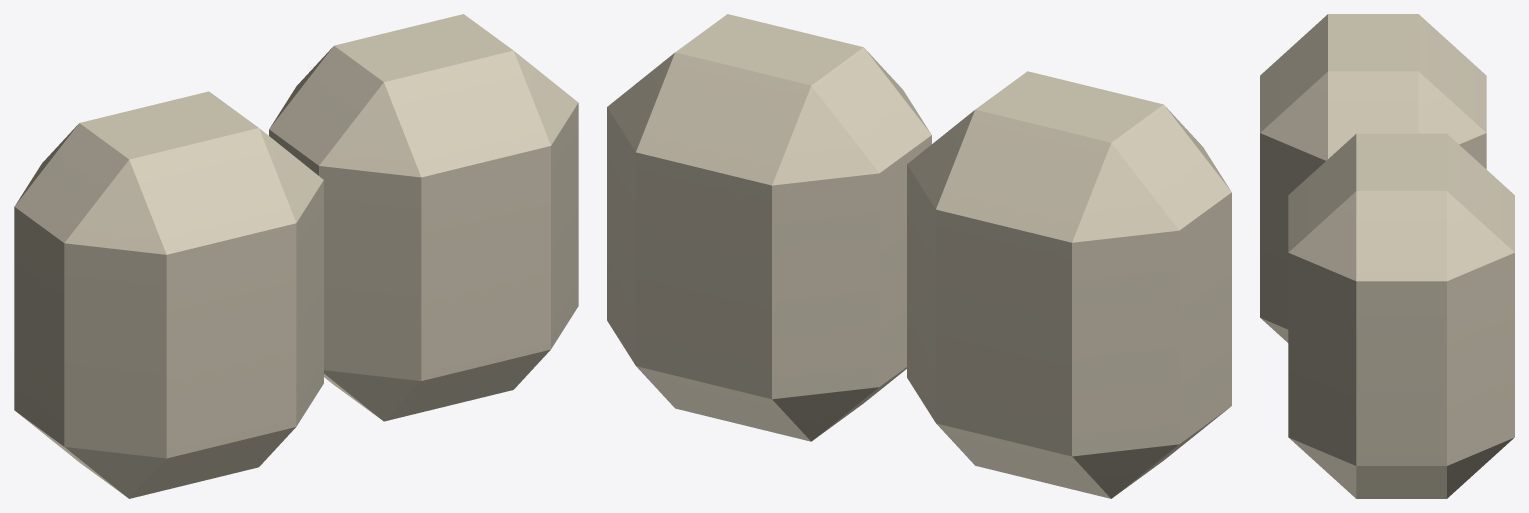
The model's file is sacks_two.glb.
3 views of the same model, side by side, from view 1: azimuth 30°, elevation 25°; view 2: azimuth 150°, elevation 25°; view 3: azimuth 270°, elevation 25° (orthographic). The views are drawn at different scales.
Visible parts, largest first — view 1: sack; view 2: sack; view 3: sack.
Boxes of the visible parts, box(x1,y1,x2,y2) form: sack: box(14, 14, 578, 498); sack: box(607, 14, 1231, 498); sack: box(1260, 14, 1514, 498).
Size of the model in its own units: 0.98 by 0.6 by 0.45.
